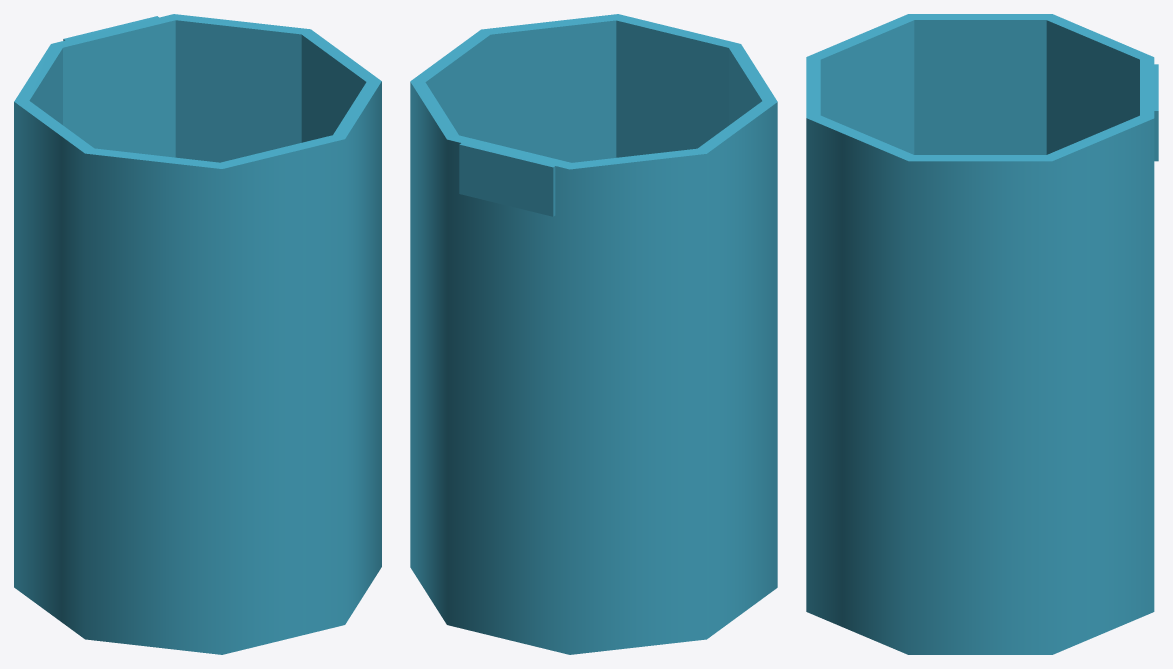
The model's file is Itr_Trashcan4_Body_05.FBX.
3 renders of one model, left to right at view 1: azimuth 30°, elevation 25°; view 2: azimuth 150°, elevation 25°; view 3: azimuth 270°, elevation 25°, orthographic.
Parts seen in each view (by area): view 1: Itr_Trashcan4_Body_05; view 2: Itr_Trashcan4_Body_05; view 3: Itr_Trashcan4_Body_05.
Part boxes in pixels (x1,y1,x2,y2): Itr_Trashcan4_Body_05: [14, 14, 381, 654]; Itr_Trashcan4_Body_05: [410, 14, 777, 654]; Itr_Trashcan4_Body_05: [806, 14, 1158, 654].
Bounding box in the file's own units: 12.01 × 18.79 × 12.15.
